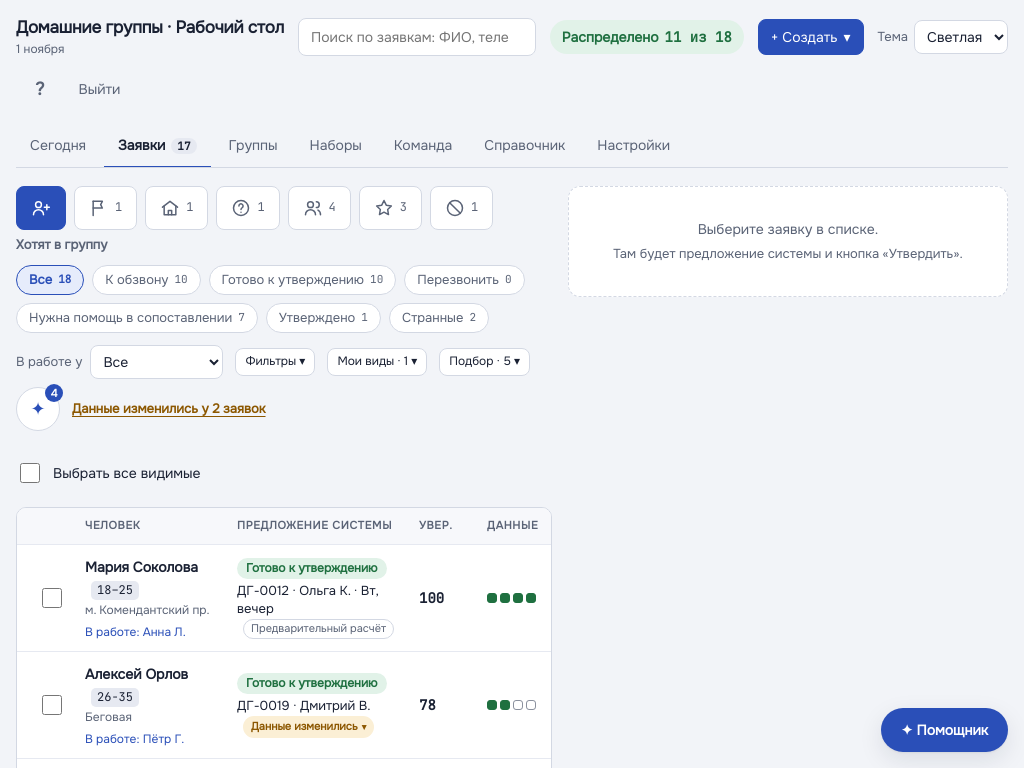
Scenario: «Мои виды» на «Заявках» › в списке видно, что вид хранит: корзину, «в работе у» и поиск
The image size is (1024, 768).
Click the button "Мои виды · 1 ▾".
click(377, 362)  # box [327, 348, 427, 376]
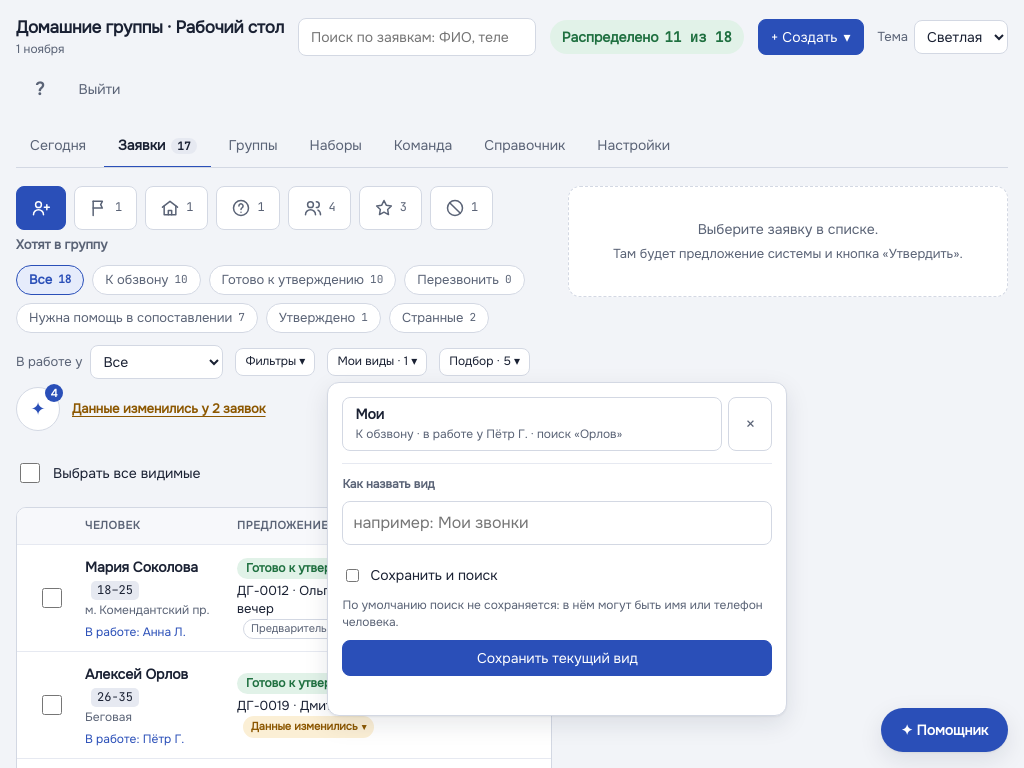
Result: the button "Мои К обзвону · в работе у Пётр Г. · поиск «Орлов»" is shown at [342, 397, 722, 451]
